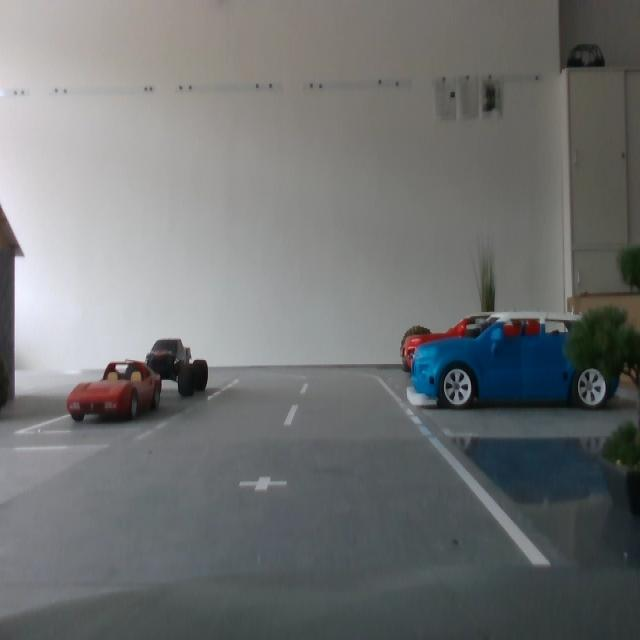car: (411, 311, 621, 411), (403, 313, 608, 394), (67, 360, 162, 422), (145, 338, 209, 397)
potted plant: (565, 243, 640, 518), (471, 229, 497, 355), (401, 325, 437, 371)
